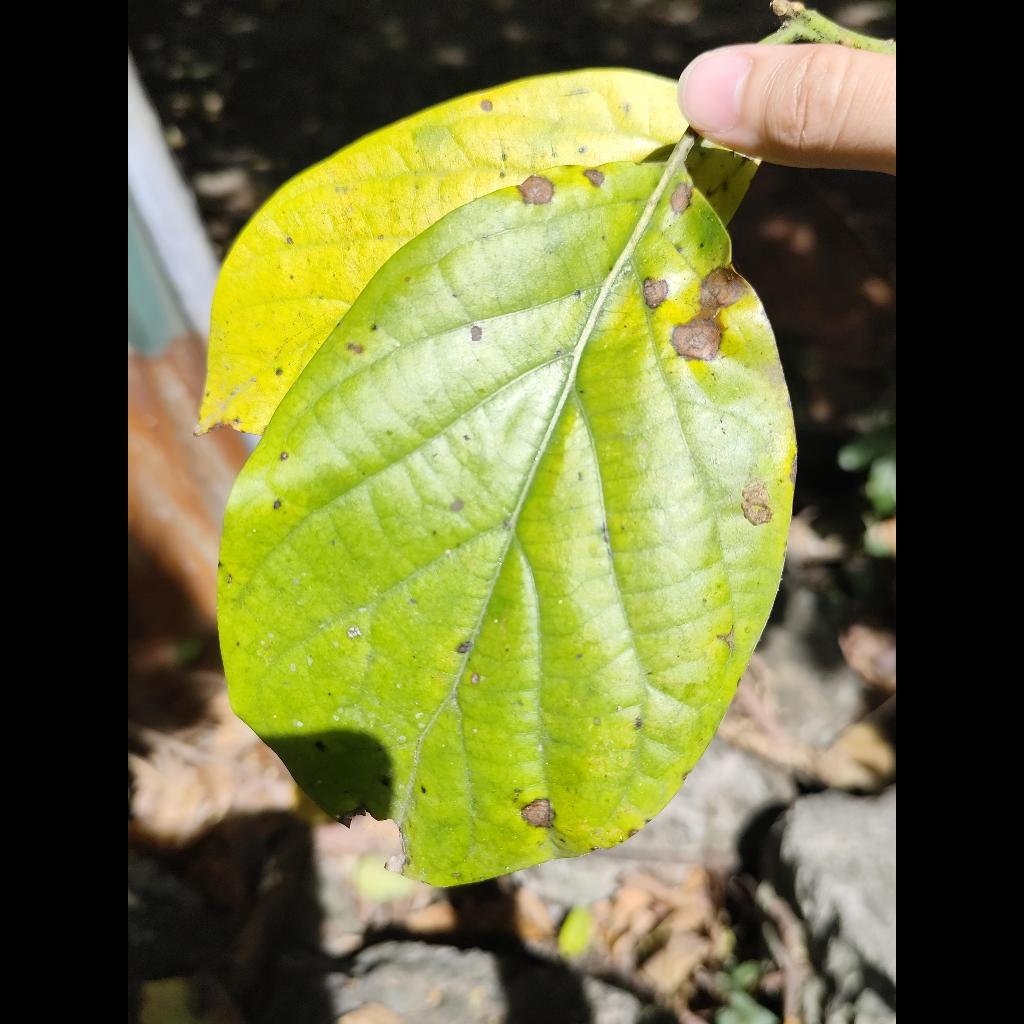deficiencia_nutricional: (219, 158, 794, 885)
